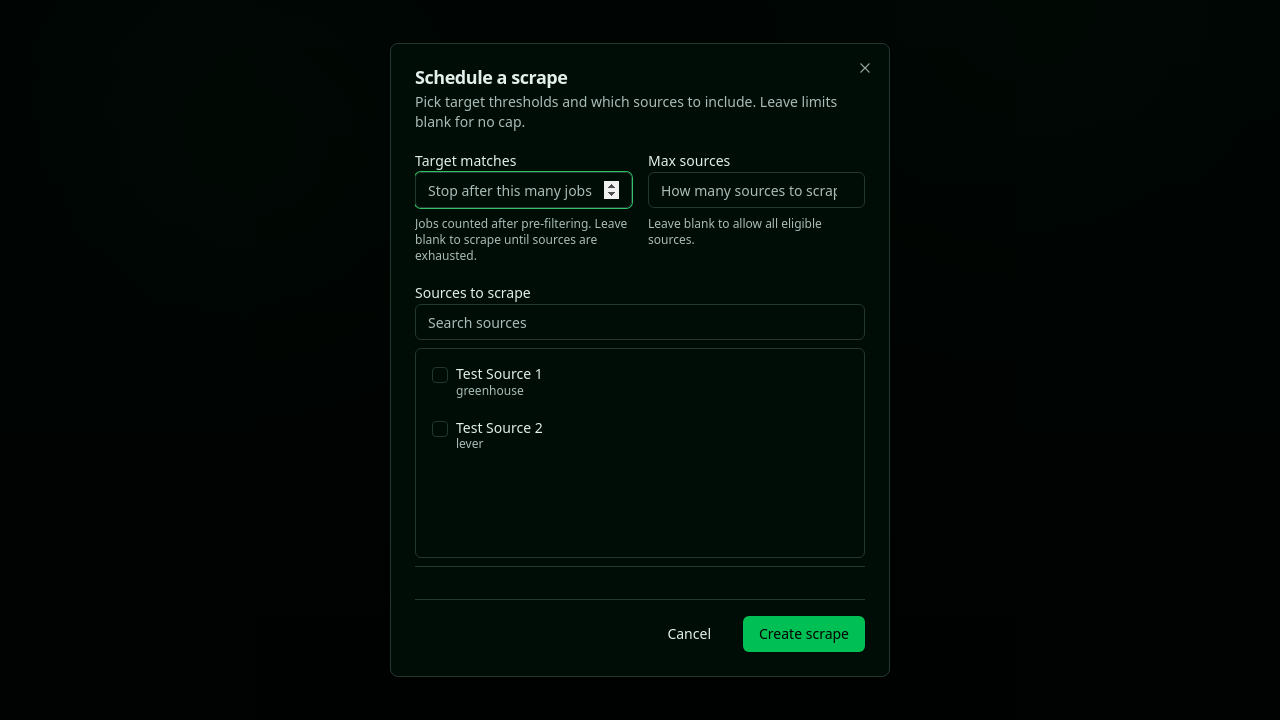
Test case: ScrapeJobDialog › displays generic error when non-Error is thrown
Click the button "Create scrape": click(804, 634) [743, 616, 865, 652]
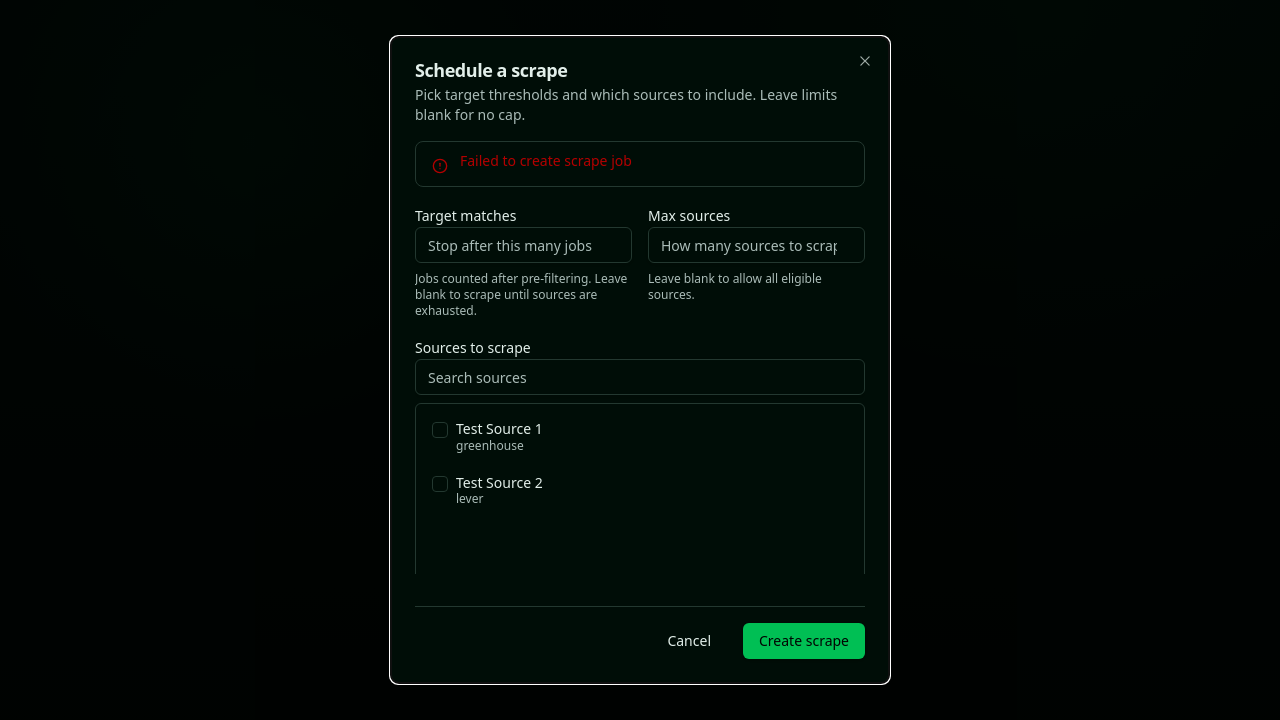
Now the text "Failed to create scrape job" is shown, box [460, 151, 632, 170]
